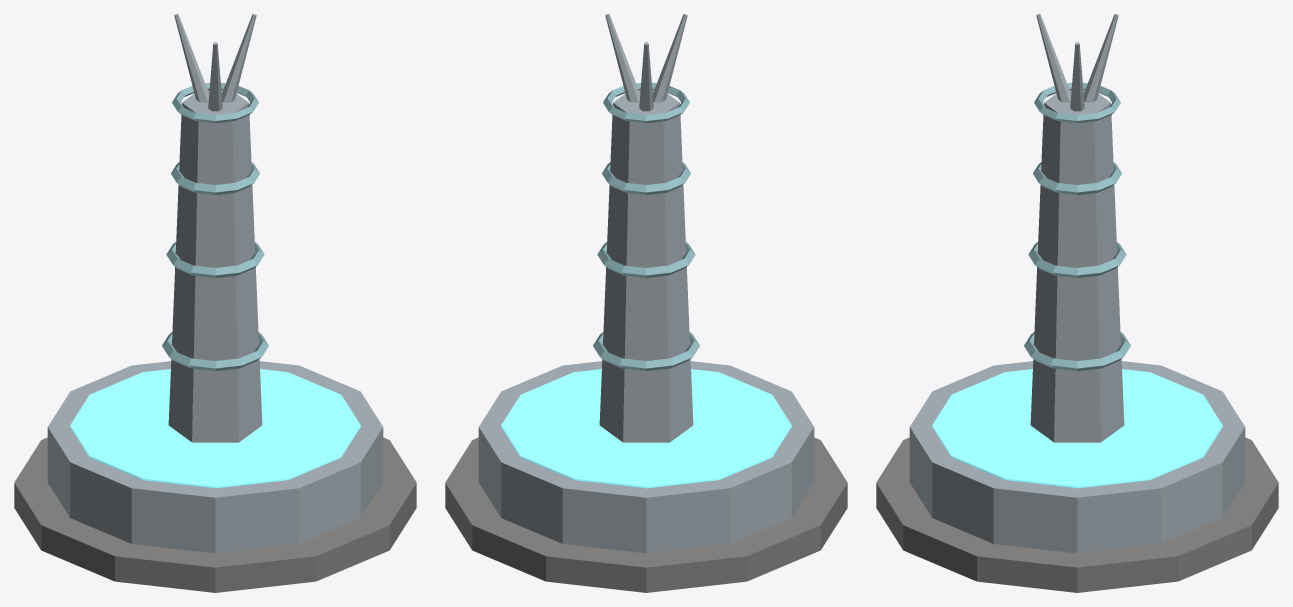
Rendered from SM_TideShrine.fbx.
3 renders of one model, left to right at view 1: azimuth 30°, elevation 25°; view 2: azimuth 150°, elevation 25°; view 3: azimuth 270°, elevation 25°, orthographic.
Visible parts, largest first — view 1: SM_TideShrine; view 2: SM_TideShrine; view 3: SM_TideShrine.
Boxes of the visible parts, bbox=[...] form: SM_TideShrine: bbox=[14, 14, 416, 592]; SM_TideShrine: bbox=[445, 14, 847, 592]; SM_TideShrine: bbox=[876, 14, 1278, 592].
Bounding box in the file's own units: 3.6 × 4.78 × 3.6.
